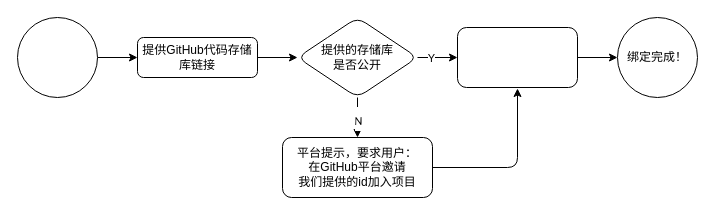
Image size: 715x215. Some labels were removed from this diagram. Each missing label, with the box of its shape:
平台自动同步 相关信息: (456, 26, 578, 88)
点选 绑定GitHub 项目存储库: (16, 16, 98, 98)
